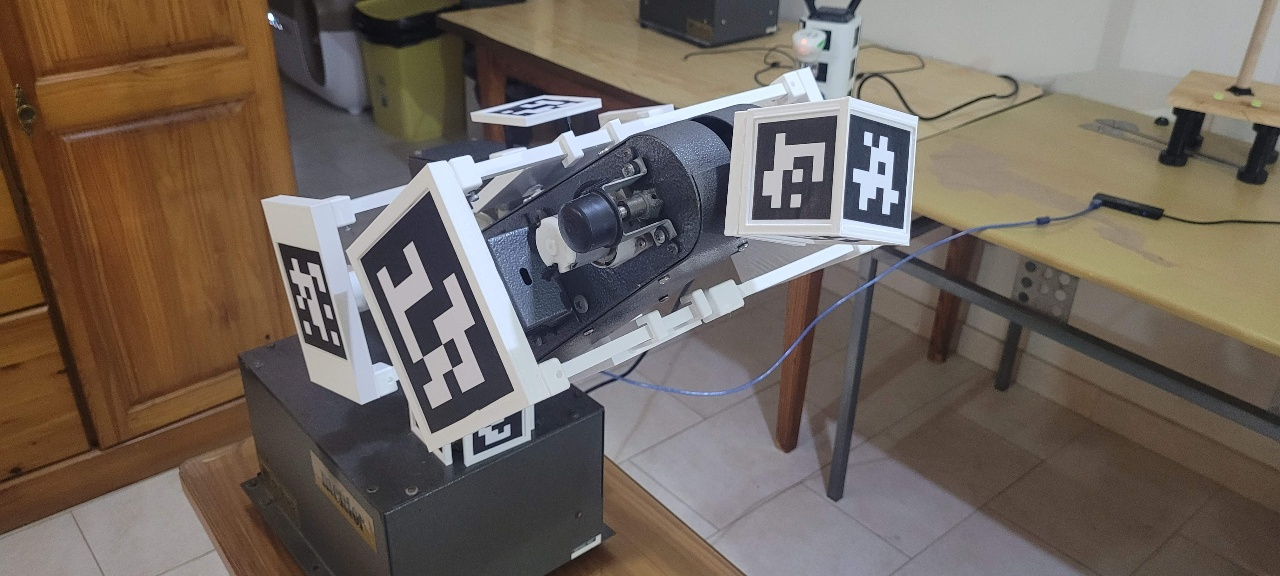Robot: (259, 64, 920, 468)
